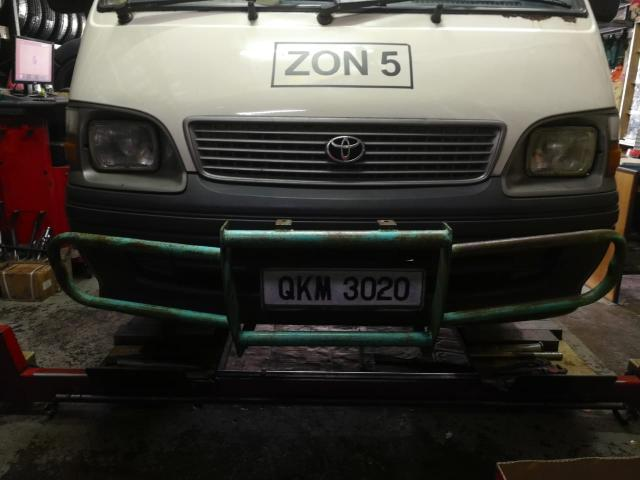License_Plate: (262, 268, 425, 310)
van: (50, 6, 640, 349)
